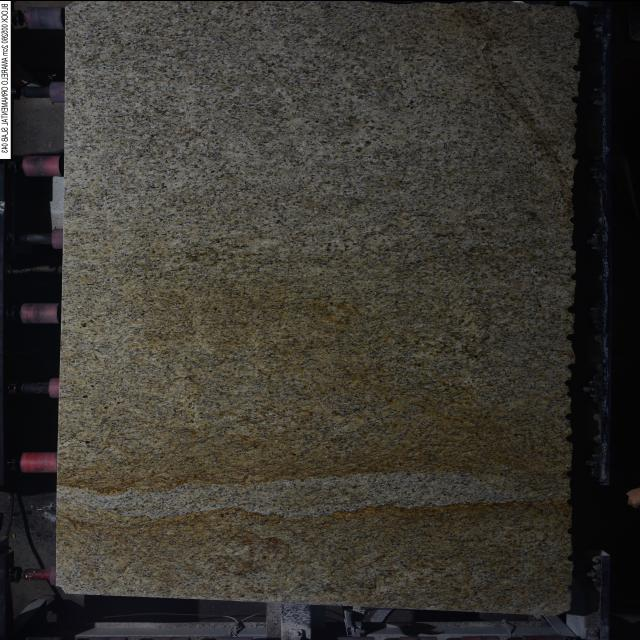chapa: (58, 0, 579, 612)
veio: (562, 432, 576, 444), (566, 330, 576, 340)
